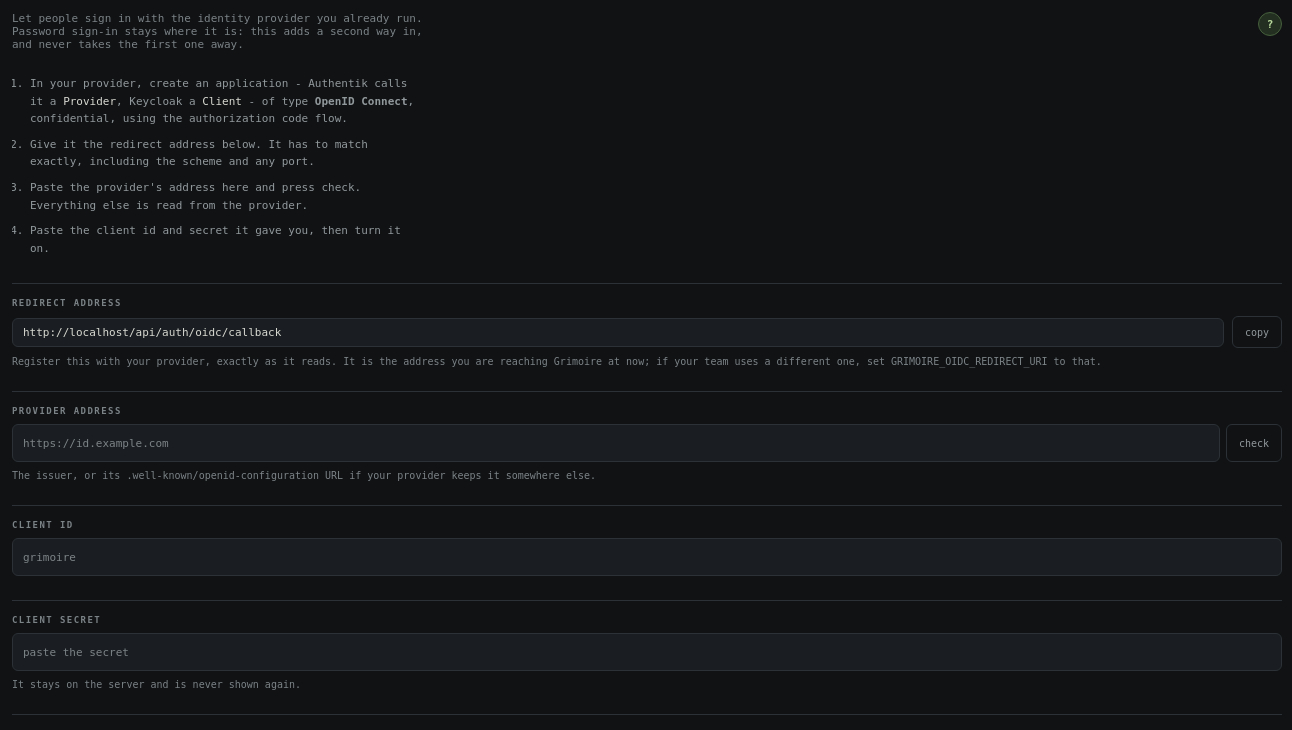
Test: the sign-in settings screen › says what went wrong, in the screen, when the address is not a provider
Type "https://nope.example.com" into the field labelled "Provider address" at coordinates (616, 443), box [12,424,1220,462]
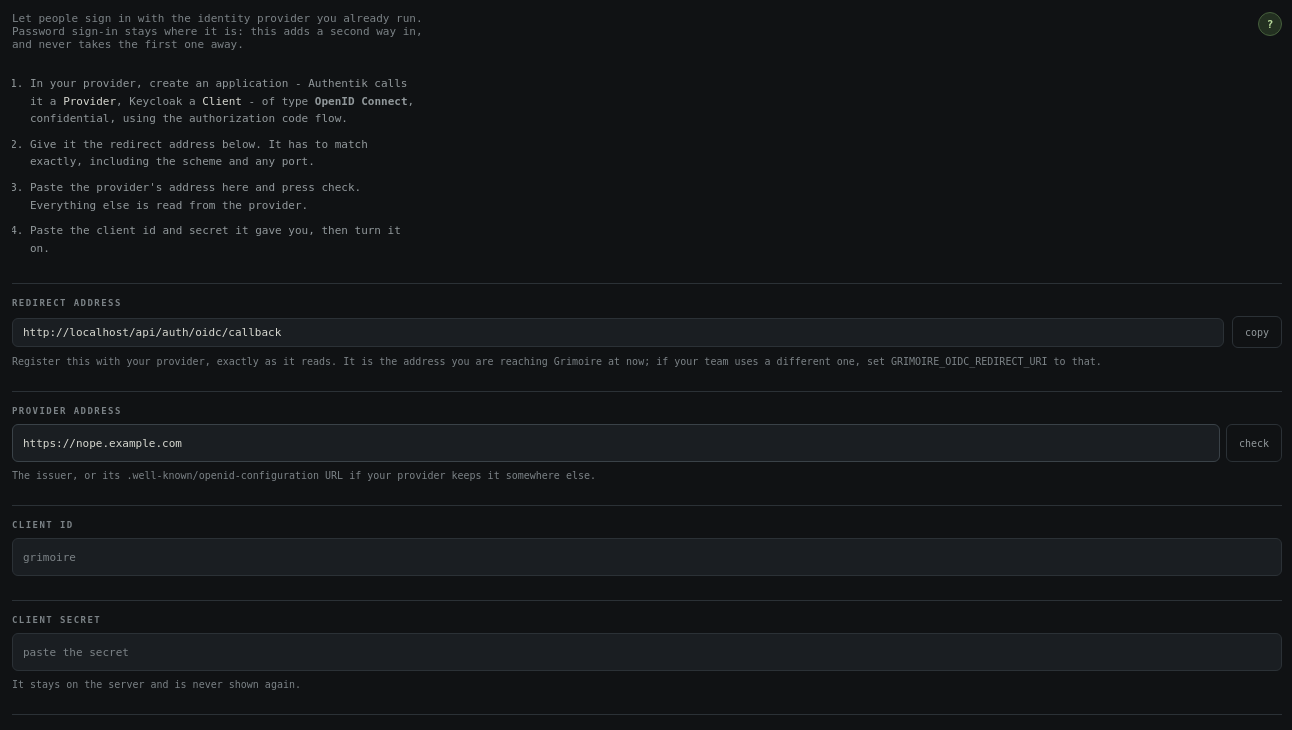
Click the button "check" at coordinates (1254, 443), box [1226,424,1282,462]
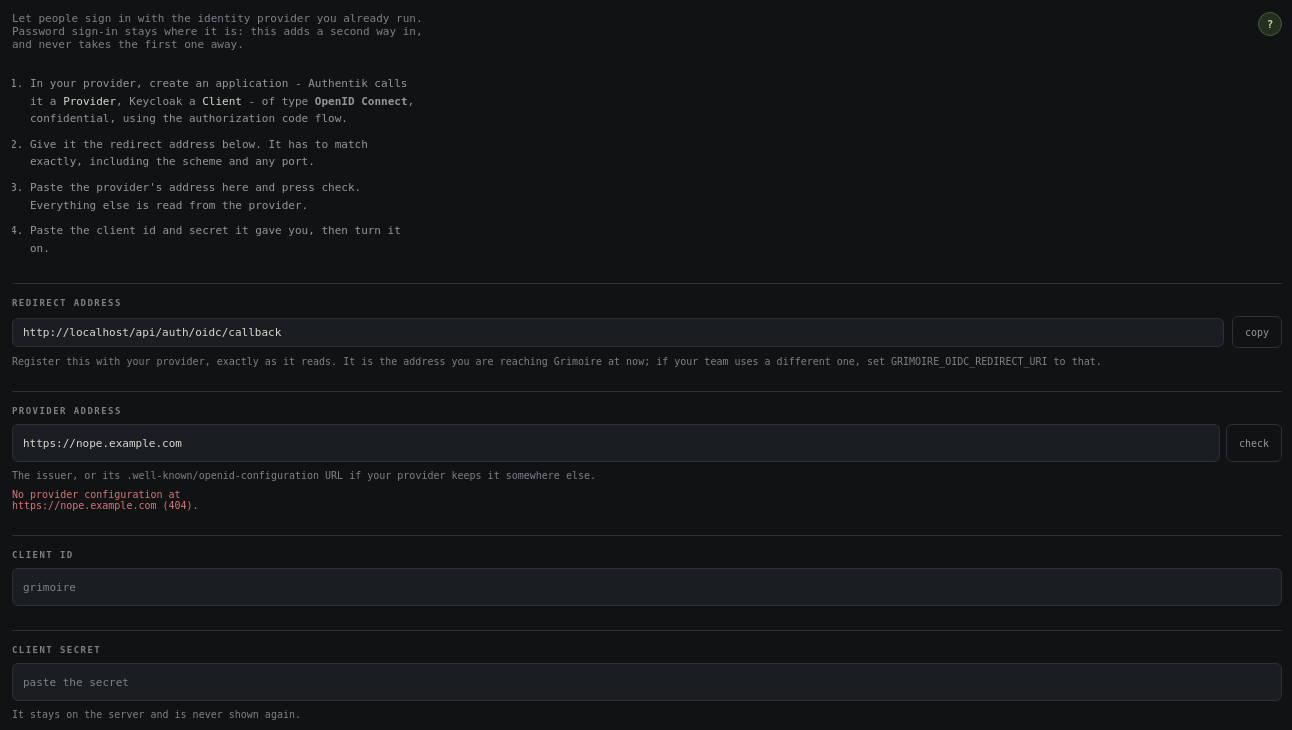
Expected: the text "No provider configuration at https://nope.example.com (404)." is shown, [12,489,199,511]
